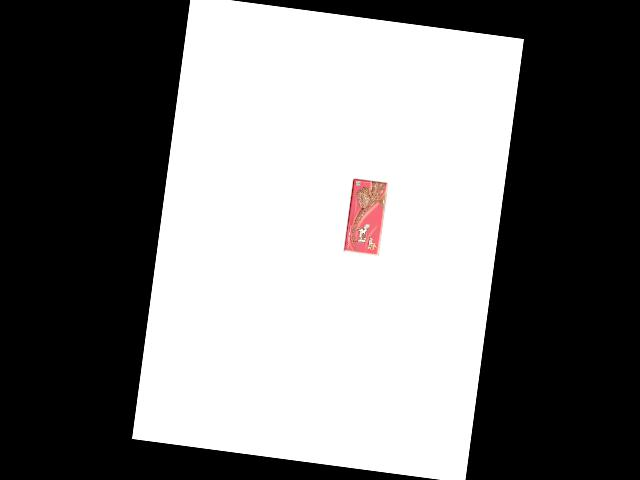chocolate: (339, 175, 389, 258)
